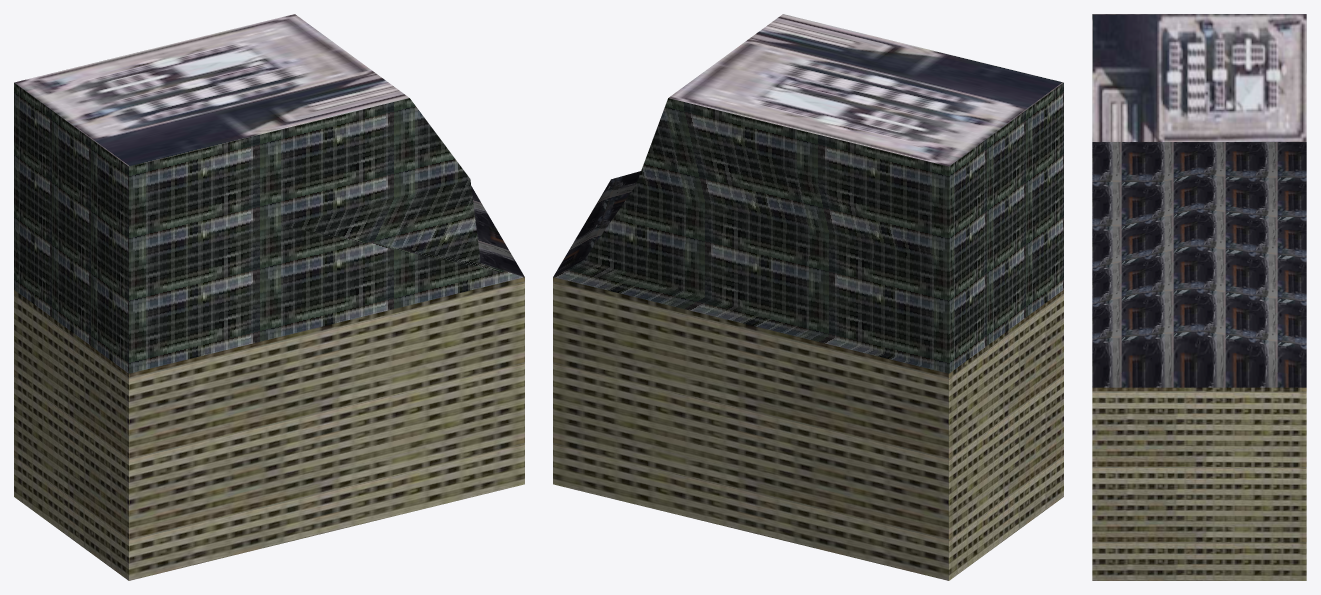
The model's file is broken_bill1.fbx.
3 views of the same model, side by side, from view 1: azimuth 30°, elevation 25°; view 2: azimuth 150°, elevation 25°; view 3: azimuth 270°, elevation 25° (orthographic). The views are drawn at different scales.
Parts seen in each view (by area): view 1: brokenbill1; view 2: brokenbill1; view 3: brokenbill1.
Part boxes in pixels (x1,y1,x2,y2): brokenbill1: [14, 14, 524, 580]; brokenbill1: [553, 14, 1063, 580]; brokenbill1: [1092, 14, 1306, 580].
Size of the model in its own units: 200 by 200 by 100.
